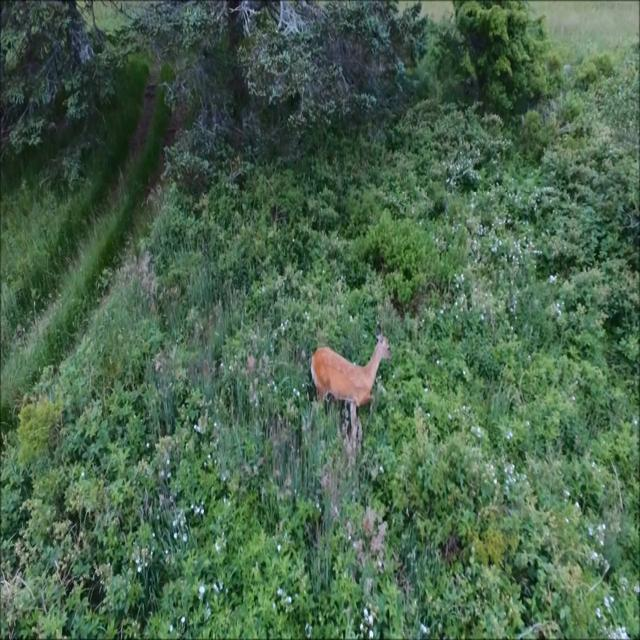Deer: (293, 316, 418, 425)
